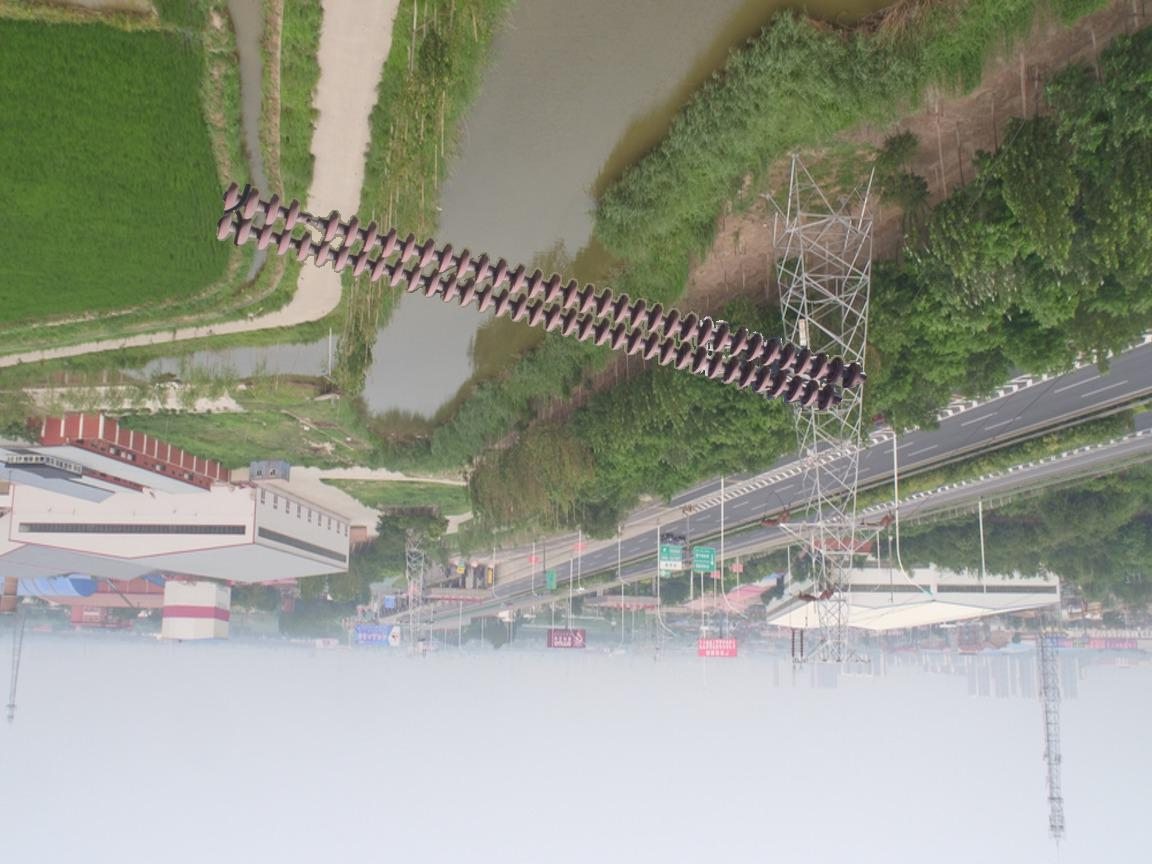insulator: (211, 175, 879, 415)
insulator_stringdrop: (281, 197, 344, 245)
